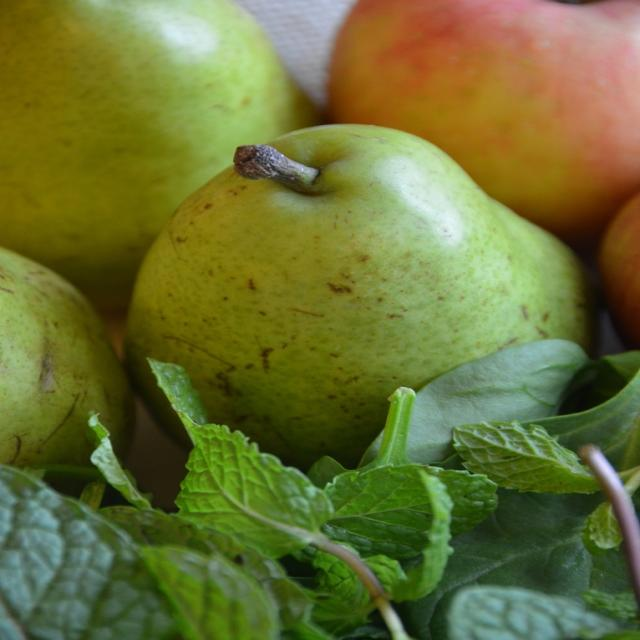pear: (122, 123, 595, 475), (0, 0, 322, 292), (0, 242, 130, 477)
